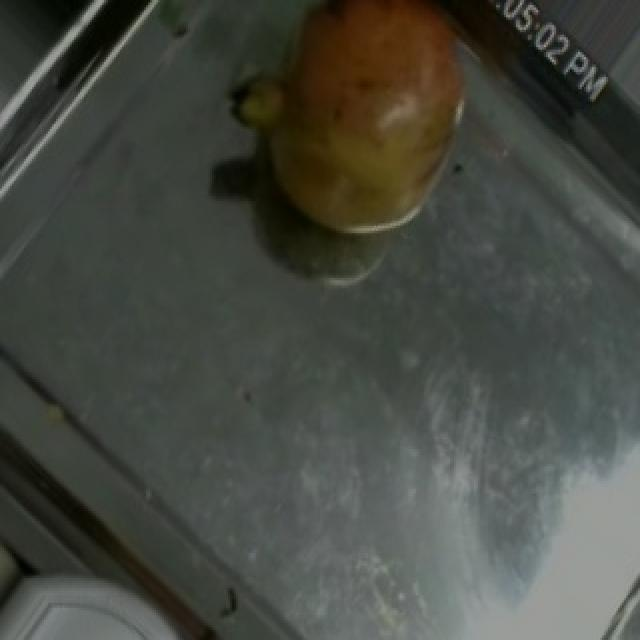fruit: (242, 3, 508, 253)
